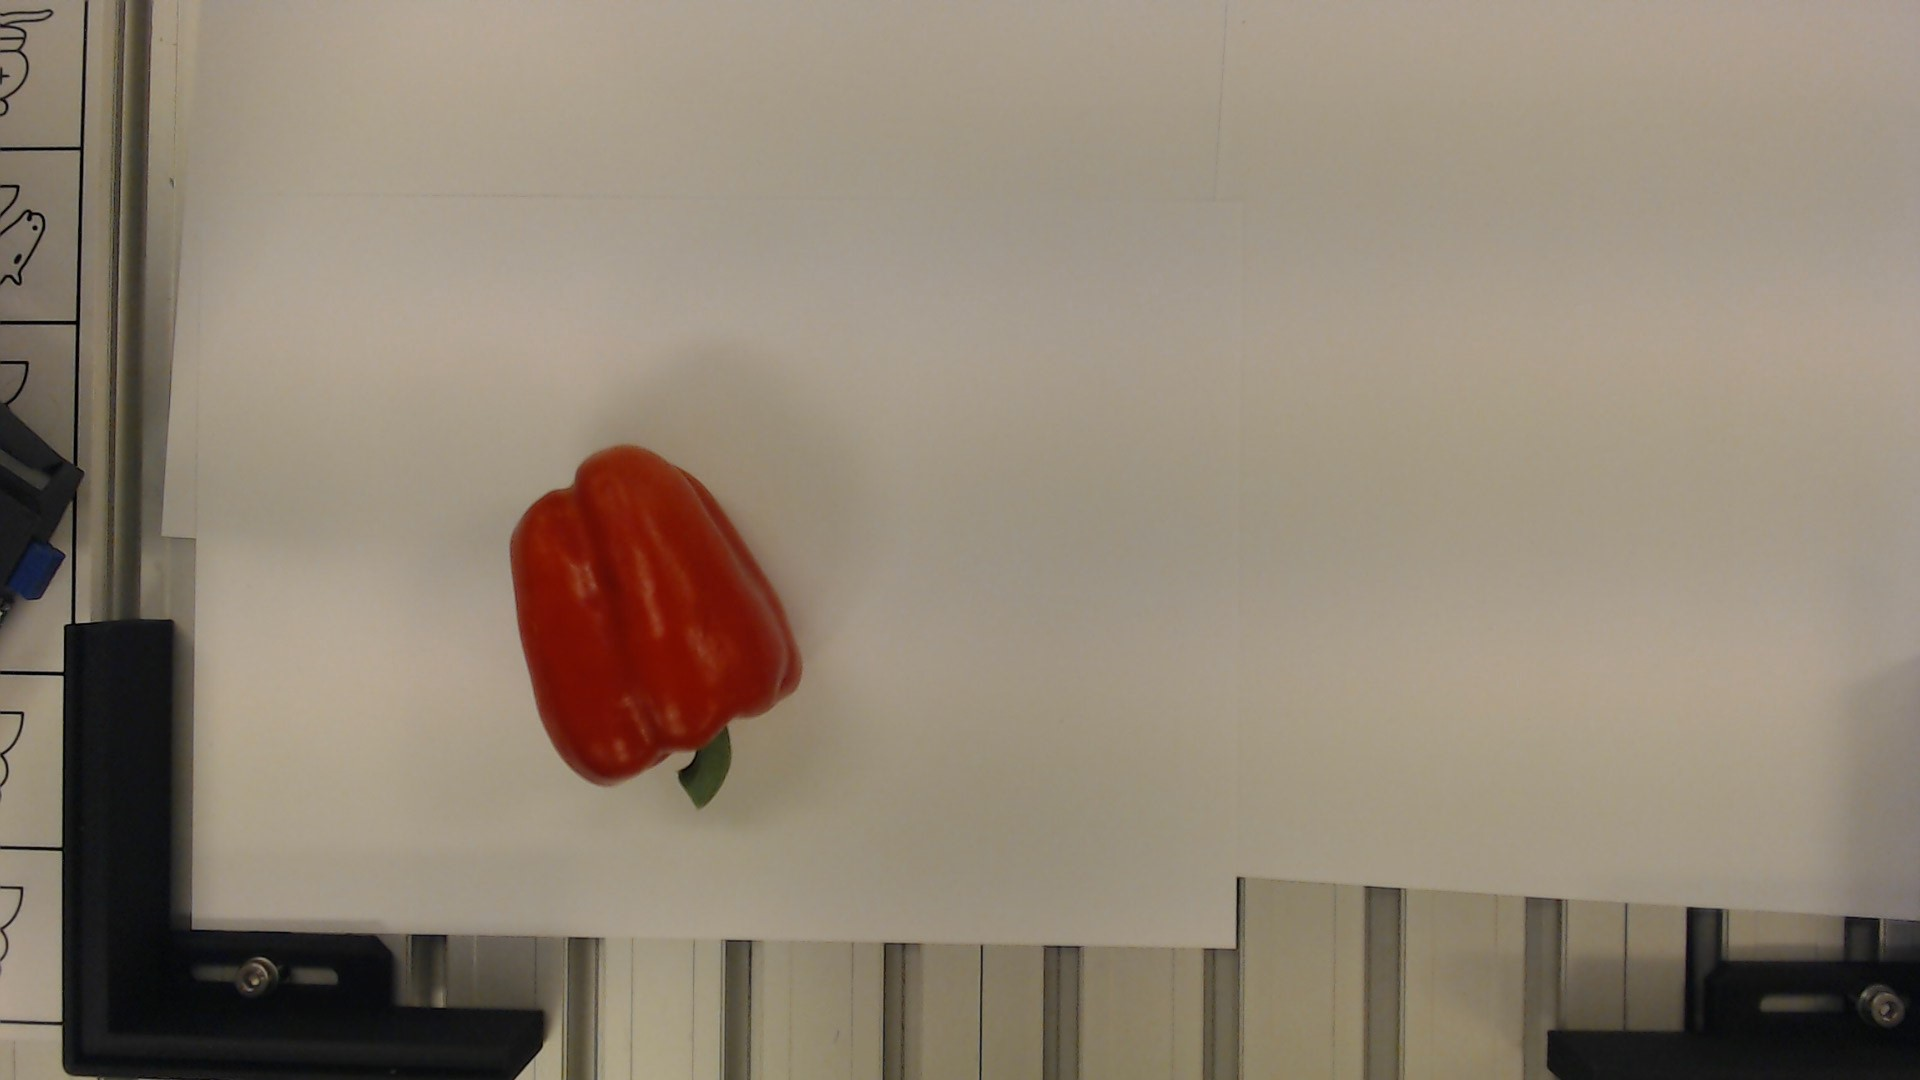Red Bell Pepper: (510, 452, 807, 807)
